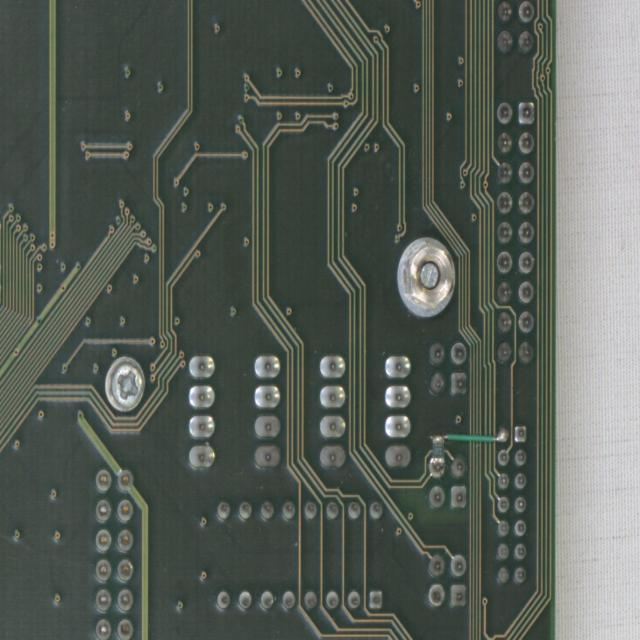component text: (433, 442, 442, 457)
pins: (208, 494, 391, 615), (184, 350, 284, 470), (493, 98, 537, 367), (316, 351, 414, 470), (91, 464, 135, 640), (494, 421, 528, 589), (425, 338, 469, 398), (492, 0, 536, 57), (428, 451, 469, 510), (426, 552, 468, 608)
resistor: (431, 433, 444, 464)
